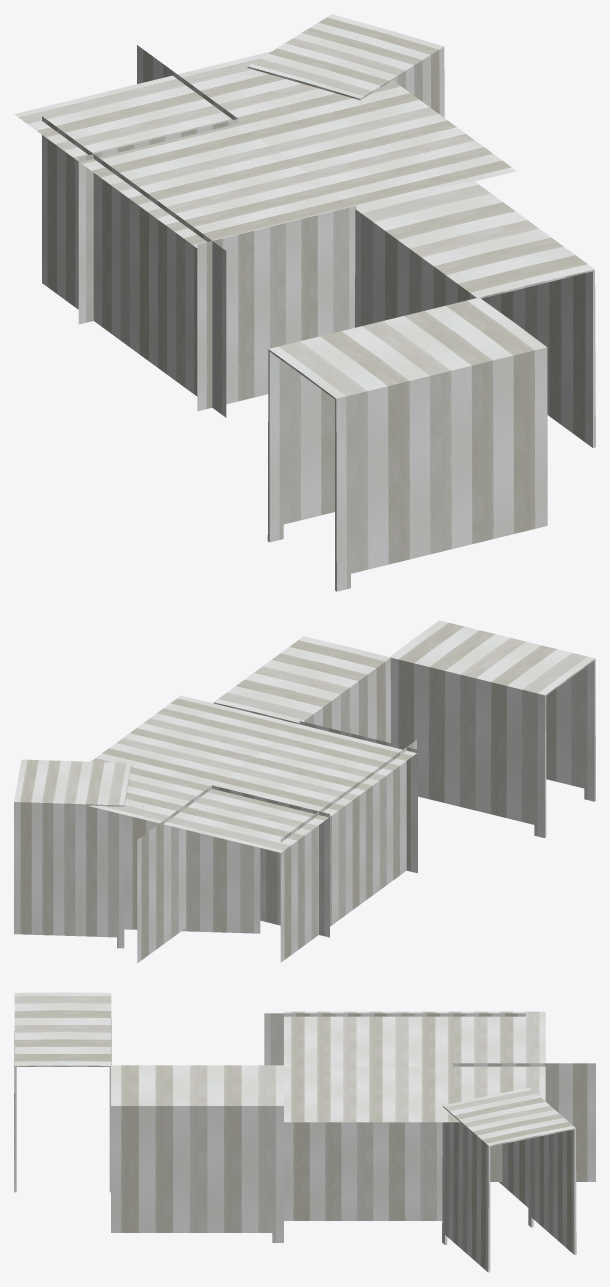
File: Hallways.fbx
3 renders of one model, top to bottom at view 1: azimuth 30°, elevation 25°; view 2: azimuth 150°, elevation 25°; view 3: azimuth 270°, elevation 25°, orthographic. The views are drawn at different scales.
Visible parts, largest first — view 1: PartyRoomHallway, PartyRoomHallway__1_, Wall__3_, Wall__7_, Wall__10_, Wall__9_, Wall, Wall__1_, PartyRoomHallway__3_, Wall__8_, Wall__2_, Wall__4_; view 2: PartyRoomHallway, PartyRoomHallway__3_, PartyRoomHallway__1_, Wall__5_, Wall__7_, Wall__9_, Wall__10_, Wall, Wall__1_, Wall__4_, Wall__8_, Wall__2_ (+1 smaller); view 3: PartyRoomHallway__1_, Wall__6_, PartyRoomHallway__3_, PartyRoomHallway, Wall__7_, Wall__9_, Wall__10_, Wall__4_, Wall__8_, Wall__5_, Wall, Wall__1_.
Boxes of the visible parts, x1=… form: PartyRoomHallway: x1=267, y1=297, x2=547, y2=591; PartyRoomHallway__1_: x1=355, y1=180, x2=595, y2=447; Wall__3_: x1=197, y1=205, x2=356, y2=411; Wall__7_: x1=266, y1=104, x2=516, y2=208; Wall__10_: x1=14, y1=75, x2=265, y2=181; Wall__9_: x1=106, y1=143, x2=352, y2=247; Wall: x1=134, y1=184, x2=226, y2=417; Wall__1_: x1=42, y1=116, x2=134, y2=350; PartyRoomHallway__3_: x1=247, y1=14, x2=444, y2=117; Wall__8_: x1=178, y1=51, x2=424, y2=142; Wall__2_: x1=78, y1=119, x2=237, y2=324; Wall__4_: x1=137, y1=45, x2=237, y2=119; PartyRoomHallway: x1=389, y1=620, x2=595, y2=837; PartyRoomHallway__3_: x1=14, y1=759, x2=131, y2=948; PartyRoomHallway__1_: x1=213, y1=636, x2=390, y2=742; Wall__5_: x1=124, y1=806, x2=260, y2=933; Wall__7_: x1=113, y1=695, x2=298, y2=773; Wall__9_: x1=231, y1=724, x2=416, y2=802; Wall__10_: x1=164, y1=774, x2=348, y2=852; Wall: x1=348, y1=740, x2=416, y2=912; Wall__1_: x1=280, y1=790, x2=348, y2=962; Wall__4_: x1=137, y1=785, x2=211, y2=963; Wall__8_: x1=88, y1=745, x2=230, y2=823; Wall__2_: x1=212, y1=785, x2=329, y2=937; PartyRoomHallway__1_: x1=111, y1=1065, x2=283, y2=1242; Wall__6_: x1=284, y1=1122, x2=442, y2=1220; PartyRoomHallway__3_: x1=442, y1=1088, x2=576, y2=1272; PartyRoomHallway: x1=14, y1=992, x2=111, y2=1192; Wall__7_: x1=284, y1=1067, x2=414, y2=1122; Wall__9_: x1=284, y1=1011, x2=414, y2=1066; Wall__10_: x1=415, y1=1011, x2=545, y2=1066; Wall__4_: x1=452, y1=1063, x2=595, y2=1181; Wall__8_: x1=415, y1=1067, x2=545, y2=1122; Wall__5_: x1=499, y1=1139, x2=528, y2=1207; Wall: x1=264, y1=1013, x2=394, y2=1065; Wall__1_: x1=395, y1=1013, x2=525, y2=1016.
Size of the model in its own units: 1077 by 456 by 1728.
Materials: 2 (2 with a texture image).
